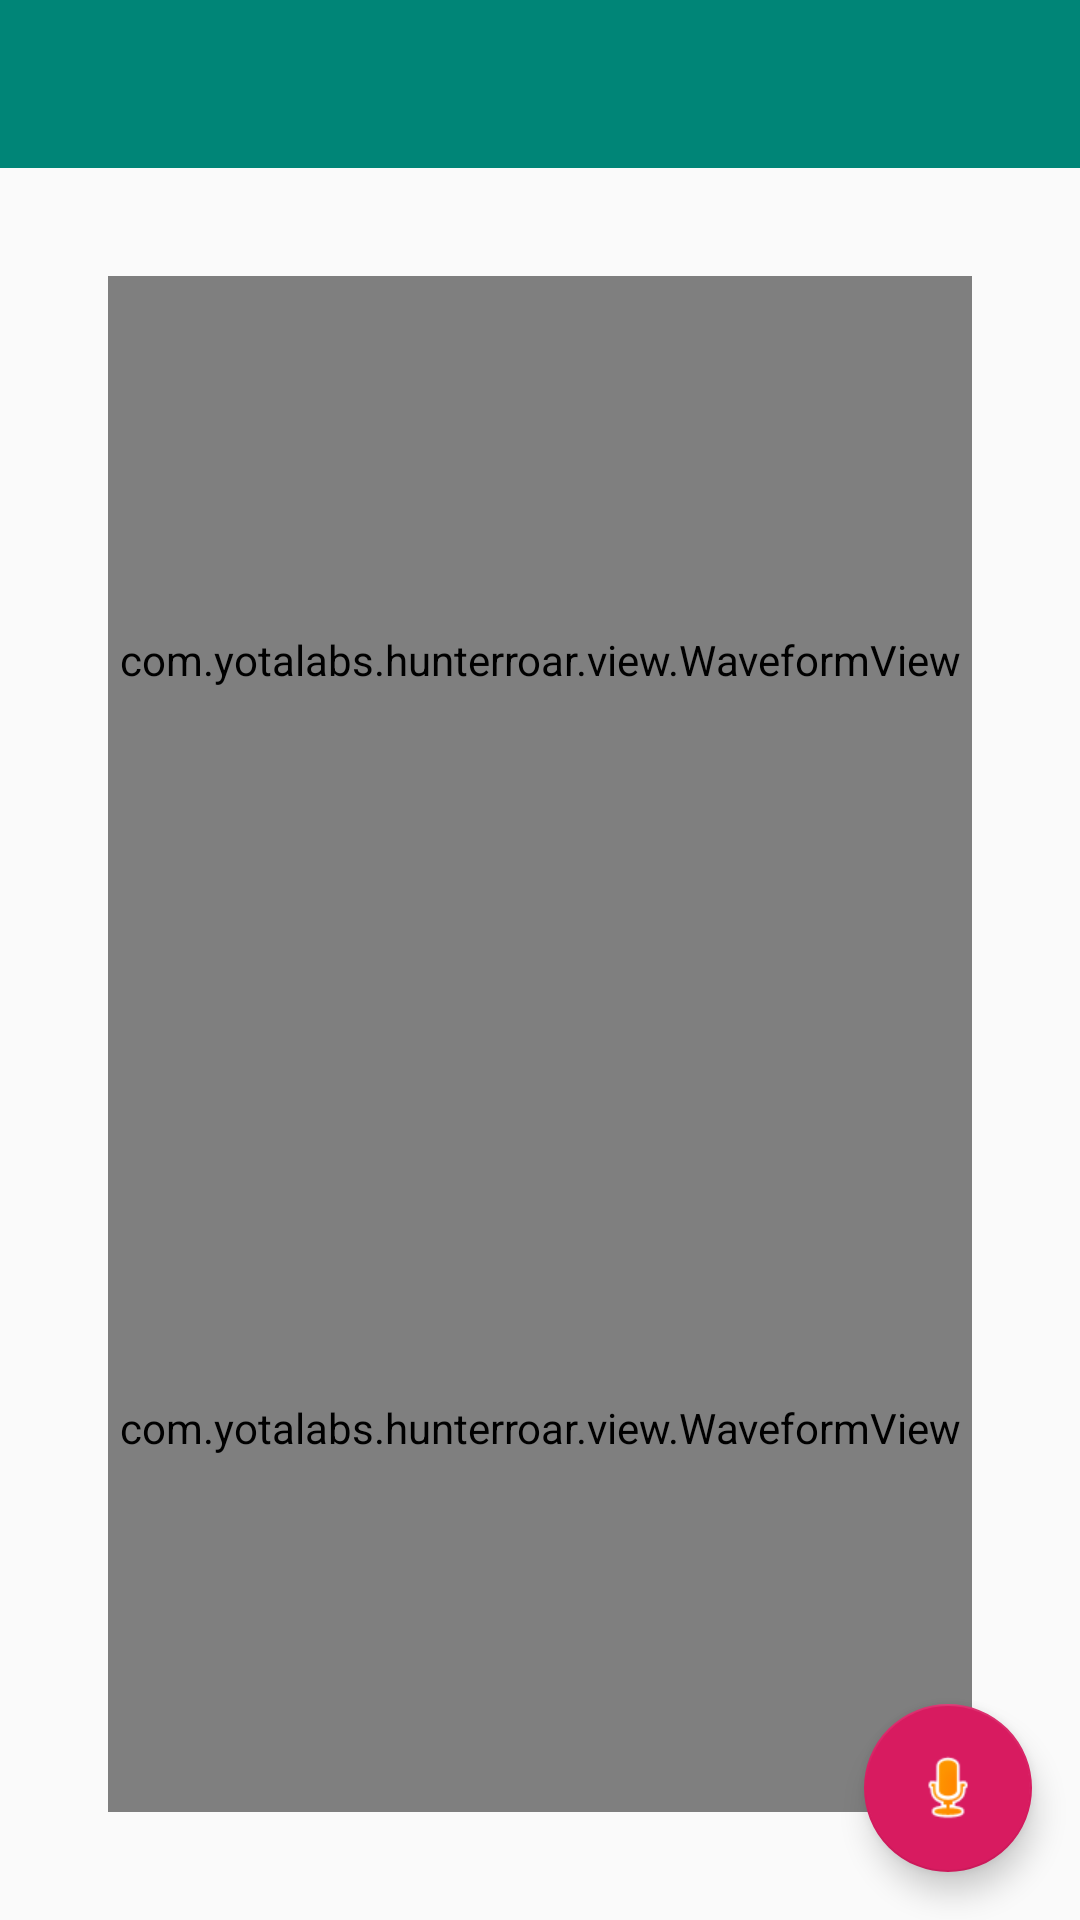

Icon click points for this 1080px x 1920px phone screenshot, format point (x, y):
presence audio away: point (948, 1788)
